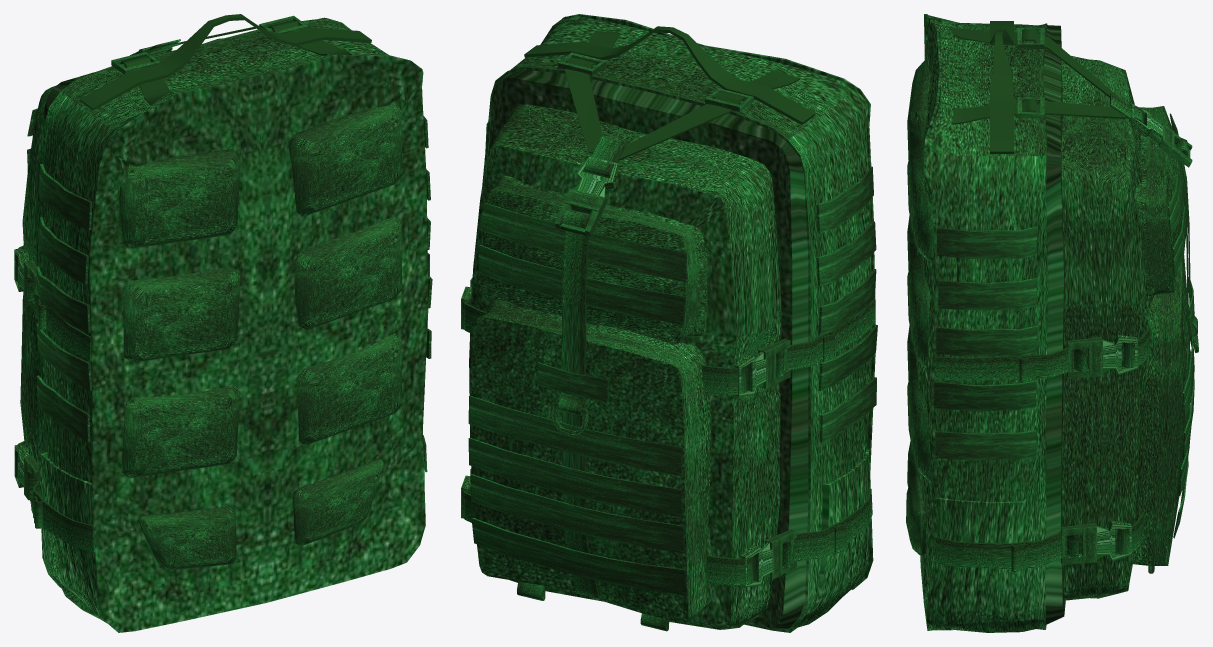
Rendered from BackPack2.fbx.
3 views of the same model, side by side, from view 1: azimuth 30°, elevation 25°; view 2: azimuth 150°, elevation 25°; view 3: azimuth 270°, elevation 25° (orthographic). The views are drawn at different scales.
Parts seen in each view (by area): view 1: backpack.001; view 2: backpack.001; view 3: backpack.001.
Boxes of the visible parts, x1,y1,x2,y2 form: backpack.001: [14, 14, 432, 632]; backpack.001: [461, 14, 877, 632]; backpack.001: [906, 14, 1198, 632].
Size of the model in its own units: 32.68 by 48.05 by 23.7.
